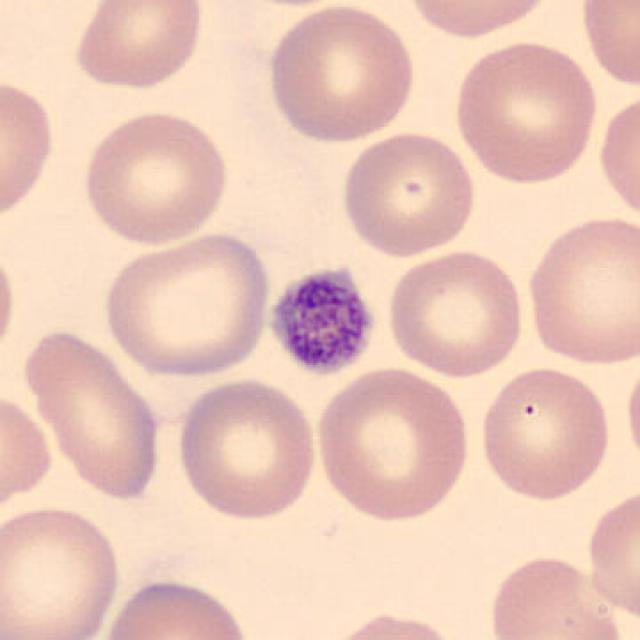Platelets: (265, 263, 377, 379)
RBC: (18, 324, 167, 502), (313, 364, 475, 526), (100, 229, 274, 379), (448, 35, 601, 187), (263, 2, 420, 146), (172, 374, 322, 524), (78, 106, 231, 247), (382, 245, 528, 381), (475, 363, 615, 504), (336, 129, 480, 259), (523, 208, 638, 370), (0, 500, 124, 640), (484, 552, 630, 640), (69, 0, 207, 93), (94, 573, 254, 640), (0, 72, 59, 228), (583, 483, 638, 626), (0, 388, 55, 522), (400, 0, 560, 41), (594, 86, 638, 228), (574, 0, 638, 93), (318, 608, 466, 640), (0, 238, 20, 369), (622, 352, 640, 478)
